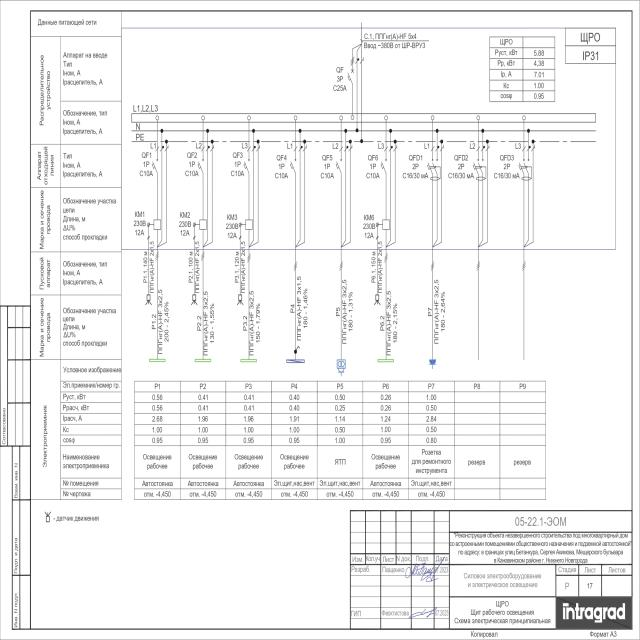-: (580, 30, 601, 64), (493, 163, 520, 180), (402, 162, 428, 179), (448, 163, 474, 180), (332, 75, 347, 93), (274, 162, 289, 180), (365, 162, 380, 180), (184, 160, 199, 177), (138, 160, 153, 177), (178, 220, 192, 238), (320, 163, 334, 180), (362, 223, 376, 240), (132, 220, 146, 237), (224, 221, 238, 238), (230, 162, 244, 177)
KM: (198, 218, 209, 232), (381, 218, 391, 232), (153, 218, 162, 232), (244, 219, 254, 231)
QF: (243, 158, 251, 174), (346, 68, 354, 84), (198, 158, 206, 174), (151, 158, 159, 173), (290, 158, 297, 174), (381, 158, 388, 173), (336, 158, 343, 173)
QFD: (473, 157, 488, 181), (428, 157, 442, 181), (518, 158, 532, 182)
